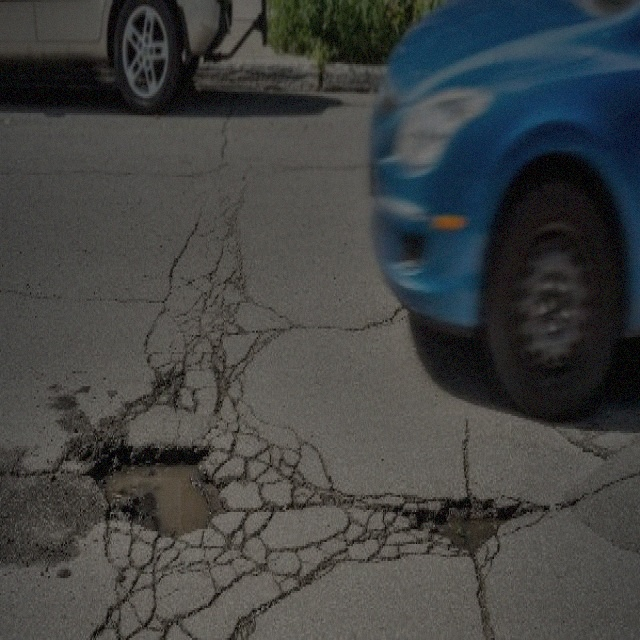pothole: (90, 420, 227, 536), (408, 491, 513, 556)
